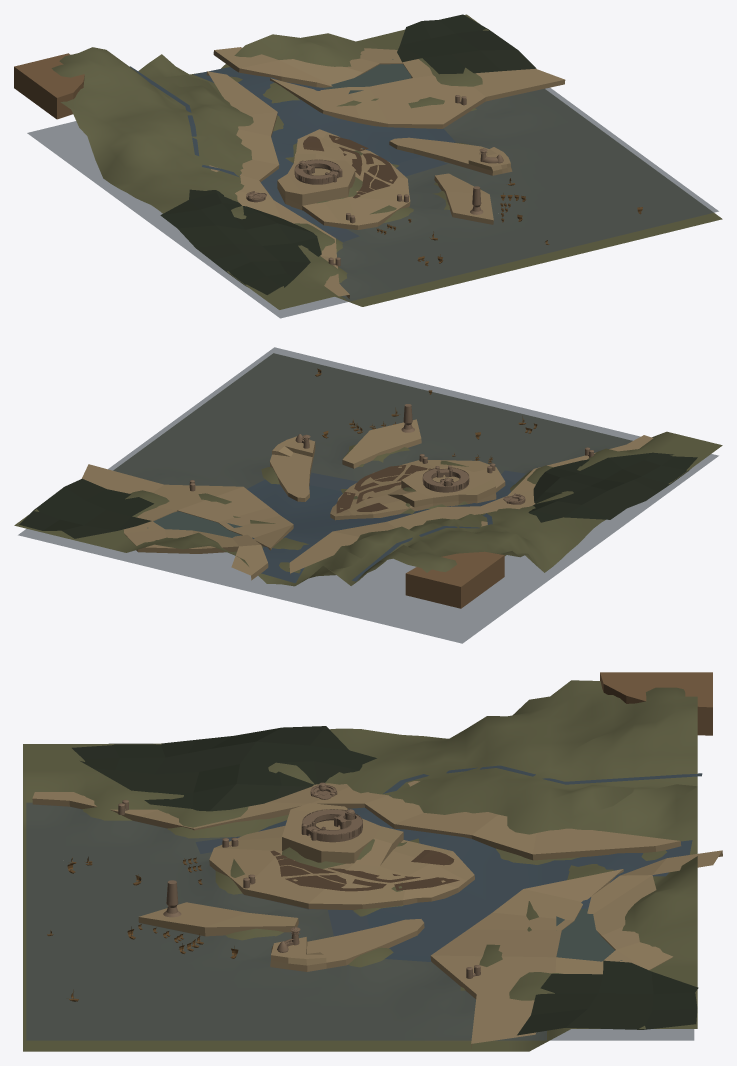
The model's file is city_view_2.glb.
3 renders of one model, top to bottom at view 1: azimuth 30°, elevation 25°; view 2: azimuth 150°, elevation 25°; view 3: azimuth 270°, elevation 25°, orthographic. The views are drawn at different scales.
Visible parts, largest first — view 1: terrain, ocean, city_foundation, fields, river, mine, houses, lake, castle; view 2: ocean, terrain, city_foundation, fields, river, mine, houses, lake, castle; view 3: terrain, ocean, city_foundation, fields, river, mine, houses, lake, castle.
Part boxes in pixels (x1,y1,x2,y2): terrain: [51, 14, 722, 309]; ocean: [27, 87, 718, 318]; city_foundation: [206, 47, 565, 298]; fields: [160, 14, 536, 294]; river: [130, 66, 455, 241]; mine: [14, 53, 84, 119]; houses: [303, 135, 397, 198]; lake: [324, 59, 411, 93]; castle: [294, 159, 342, 184]; ocean: [18, 347, 718, 643]; terrain: [14, 353, 722, 586]; city_foundation: [81, 419, 653, 580]; fields: [19, 452, 697, 538]; river: [247, 470, 524, 583]; mine: [405, 551, 504, 608]; houses: [336, 465, 431, 513]; lake: [147, 511, 242, 537]; castle: [422, 465, 469, 492]; terrain: [23, 680, 697, 1051]; ocean: [26, 802, 694, 1040]; city_foundation: [32, 781, 722, 1048]; fields: [72, 726, 698, 1035]; river: [196, 765, 702, 961]; mine: [600, 672, 712, 735]; houses: [270, 850, 459, 891]; lake: [556, 908, 622, 961]; castle: [301, 809, 362, 842].
Size of the model in its own units: 1150 by 187 by 1165.
